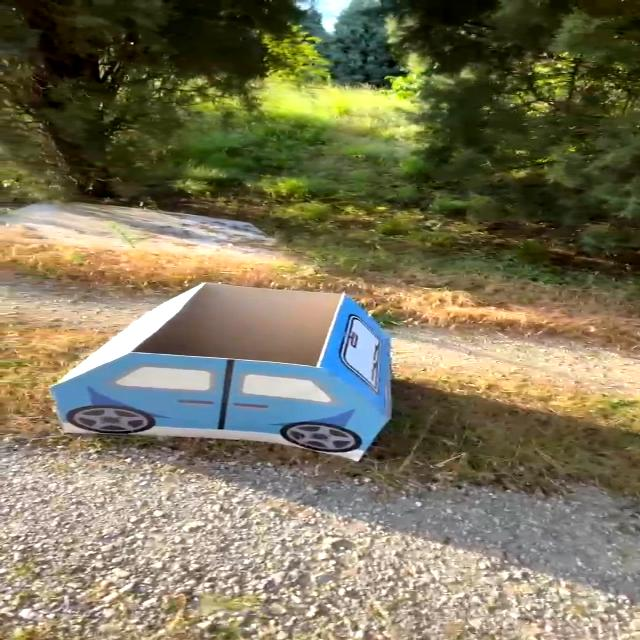blue_car: (0, 251, 439, 478)
